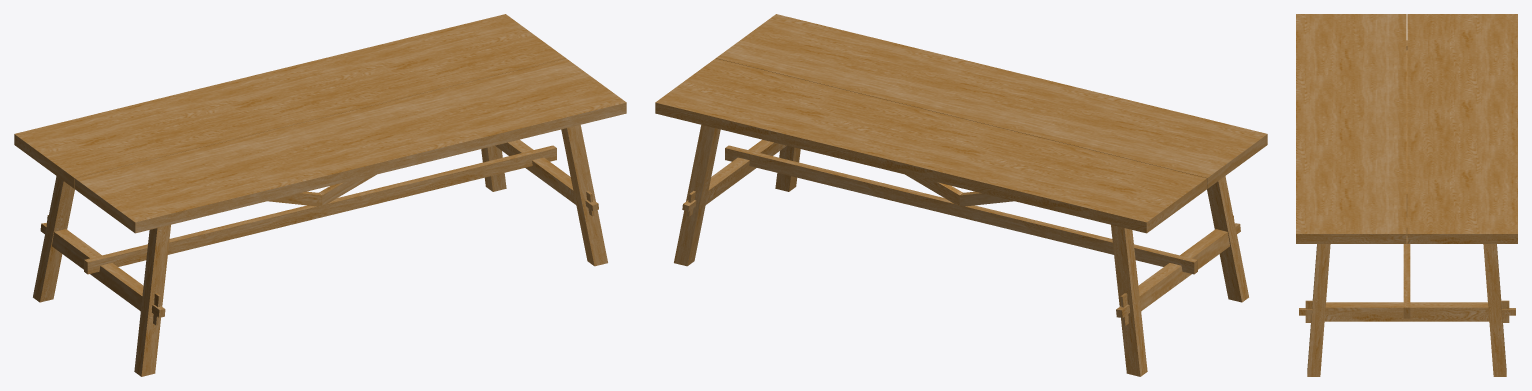
The model's file is IKEA_table.gltf.
3 views of the same model, side by side, from view 1: azimuth 30°, elevation 25°; view 2: azimuth 150°, elevation 25°; view 3: azimuth 270°, elevation 25° (orthographic). The views are drawn at different scales.
Visible parts, largest first — view 1: legs_cage; view 2: legs_cage; view 3: legs_cage.
Part boxes in pixels (x1,y1,x2,y2): legs_cage: [14, 14, 626, 376]; legs_cage: [655, 14, 1267, 376]; legs_cage: [1296, 14, 1517, 376].
Bounding box in the file's own units: 235 × 74 × 100.
Materials: 1 (1 with a texture image).
